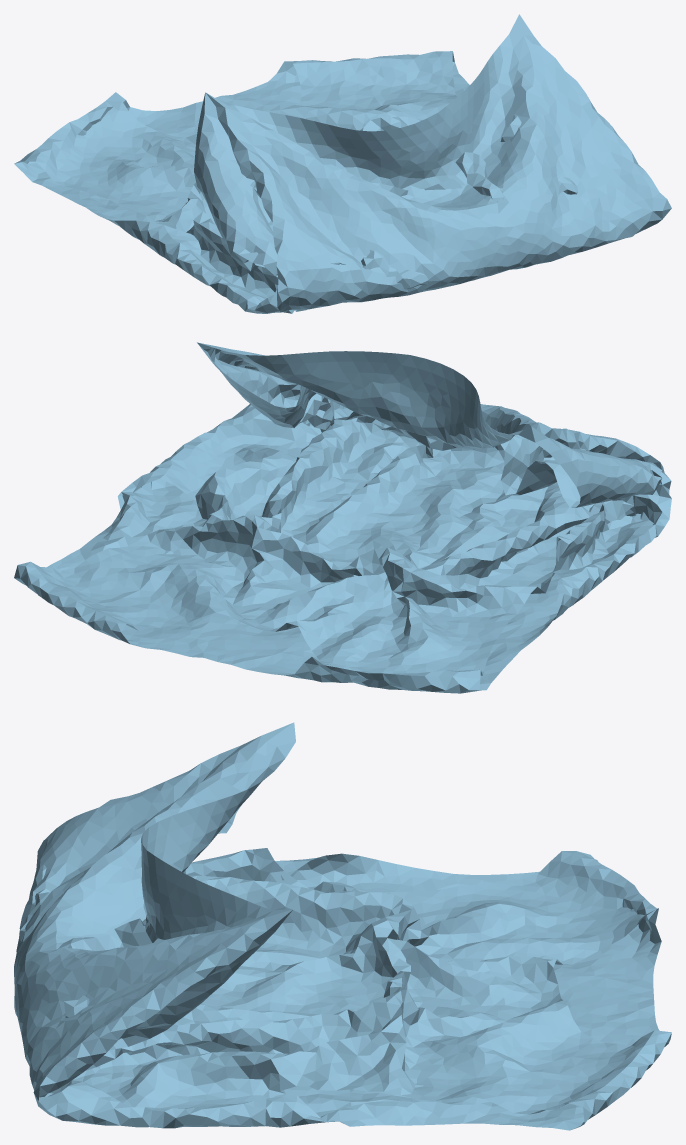
File: frame_12.glb
The picture shows the model from 3 angles, top to bottom: view 1: azimuth 30°, elevation 25°; view 2: azimuth 150°, elevation 25°; view 3: azimuth 270°, elevation 25°; orthographic projection. The views are drawn at different scales.
Visible parts, largest first — view 1: frame_12.obj; view 2: frame_12.obj; view 3: frame_12.obj.
Boxes of the visible parts, x1,y1,x2,y2 form: frame_12.obj: (14, 14, 671, 313); frame_12.obj: (14, 342, 671, 693); frame_12.obj: (14, 722, 671, 1130).
Bounding box in the file's own units: 1.24 × 0.4283 × 1.3.
